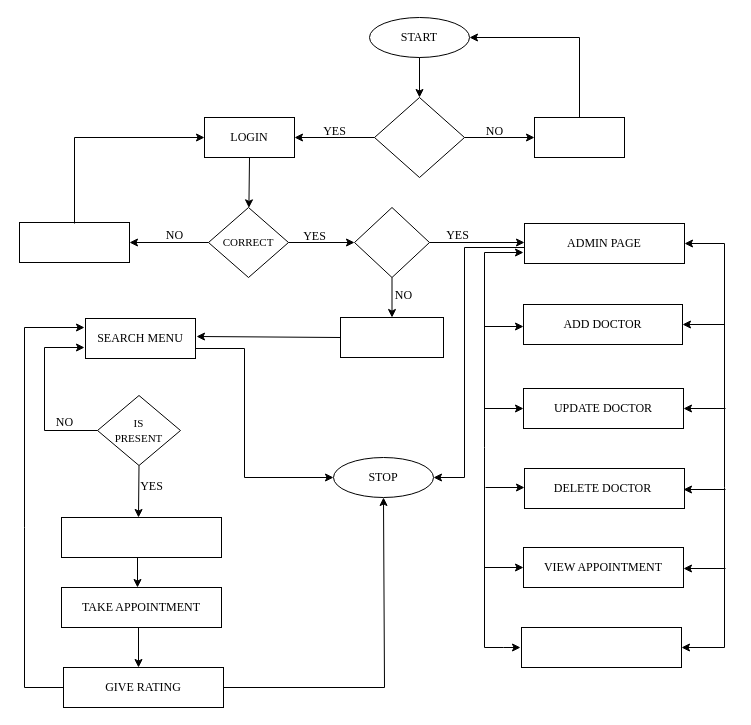
This 751x725 diagram has some shape labels left out. Each missing label, with the box of its shape:
HAS AN ACCOUNT: (374, 96, 464, 178)
INVALID USER: (18, 222, 130, 262)
IS ADMIN: (354, 206, 430, 278)
SIGN UP: (534, 116, 624, 158)
USER HOME: (340, 316, 444, 358)
VIEW DOCTORS: (60, 516, 222, 558)
VIEW RATING: (520, 626, 682, 668)
